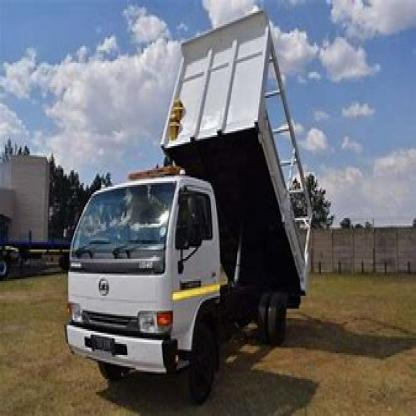dump_truck: (64, 6, 322, 401)
